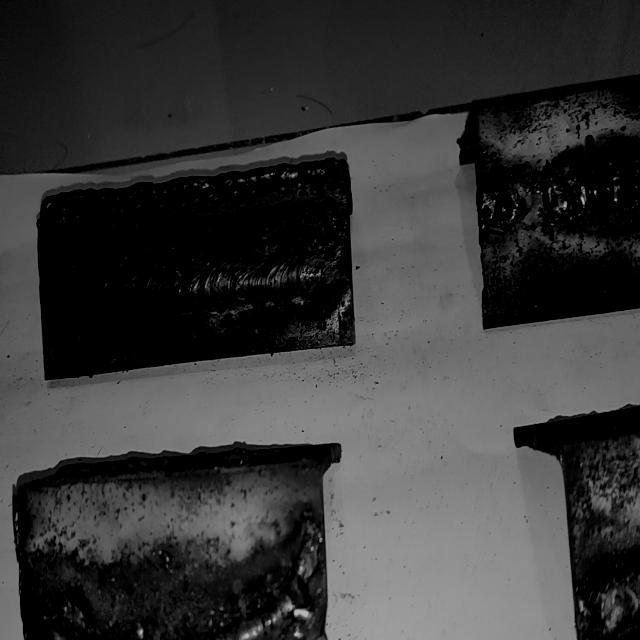Defect: (206, 536, 319, 640), (492, 153, 594, 242), (573, 127, 640, 228)
Welding Line: (45, 251, 348, 316)
Workpiece: (42, 149, 358, 384), (14, 452, 334, 640), (477, 81, 640, 336)
